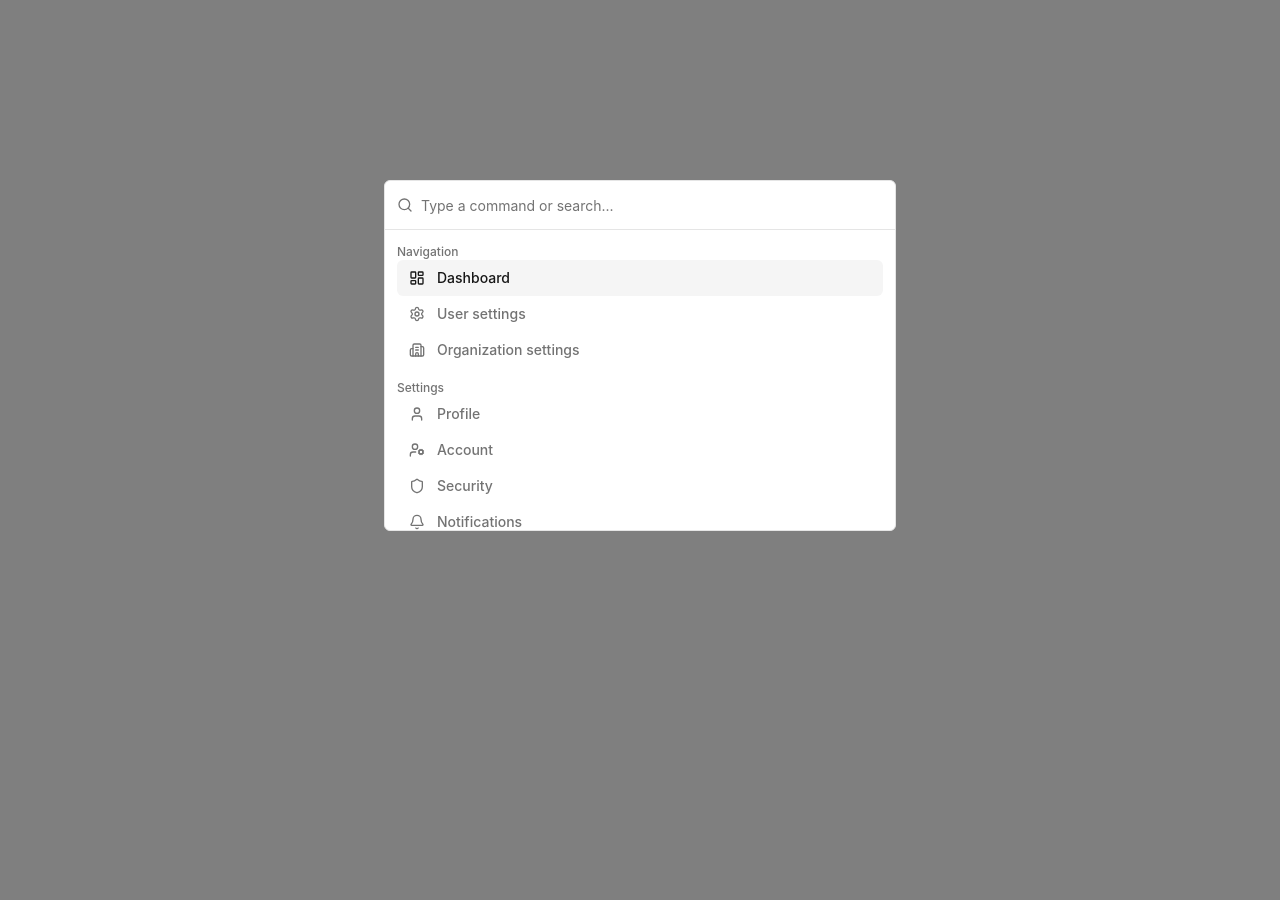
Test: CommandPalette › finds a settings section by keyword (billing → Billing)
The image size is (1280, 900).
Type "billing" into the dropdown with placeholder "Type a command or search..." at {"x": 652, "y": 205}, box top-left (421, 181), bottom-right (883, 229)
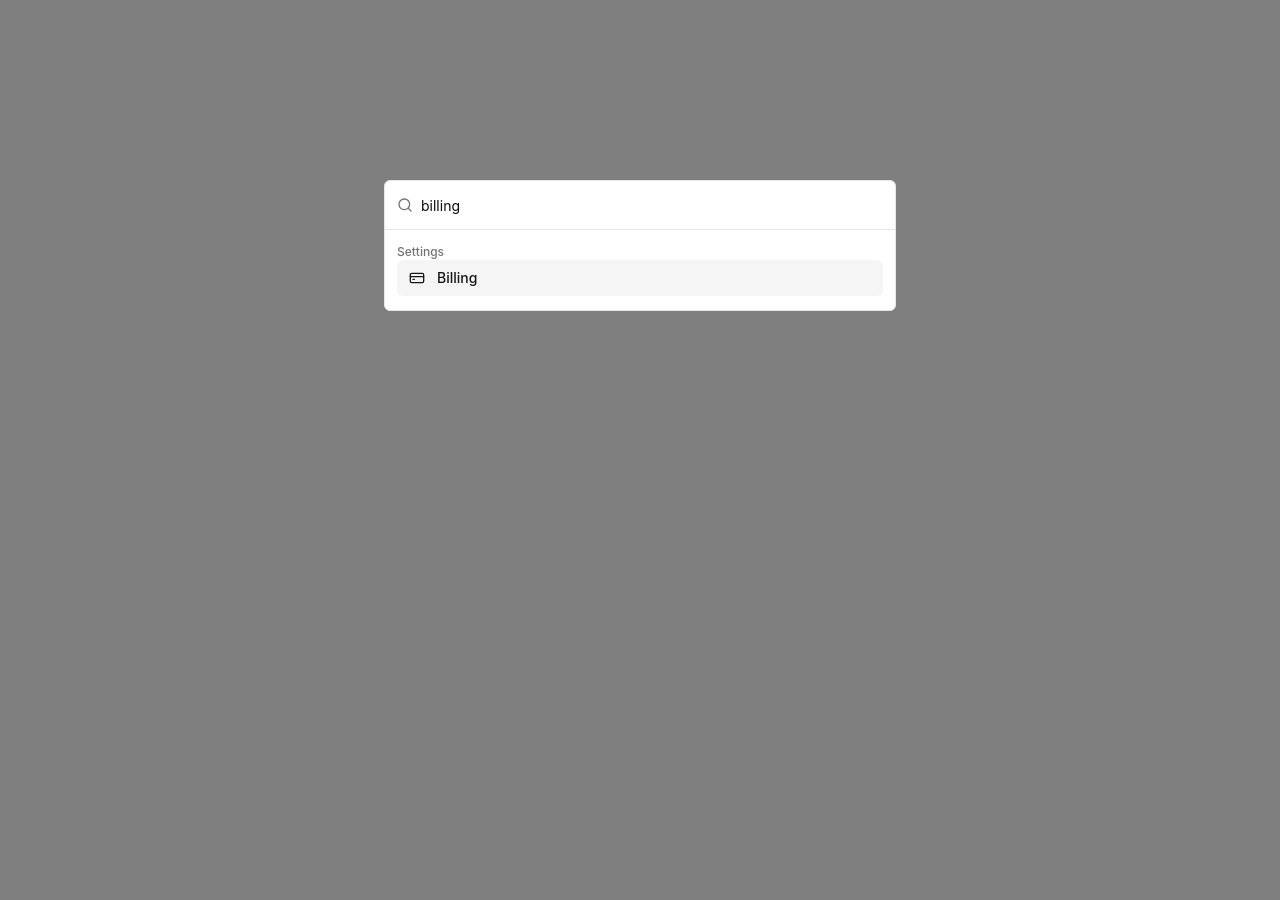
Now the option "Billing" is shown, box top-left (397, 260), bottom-right (883, 296)
Now the option "Profile" is gone
